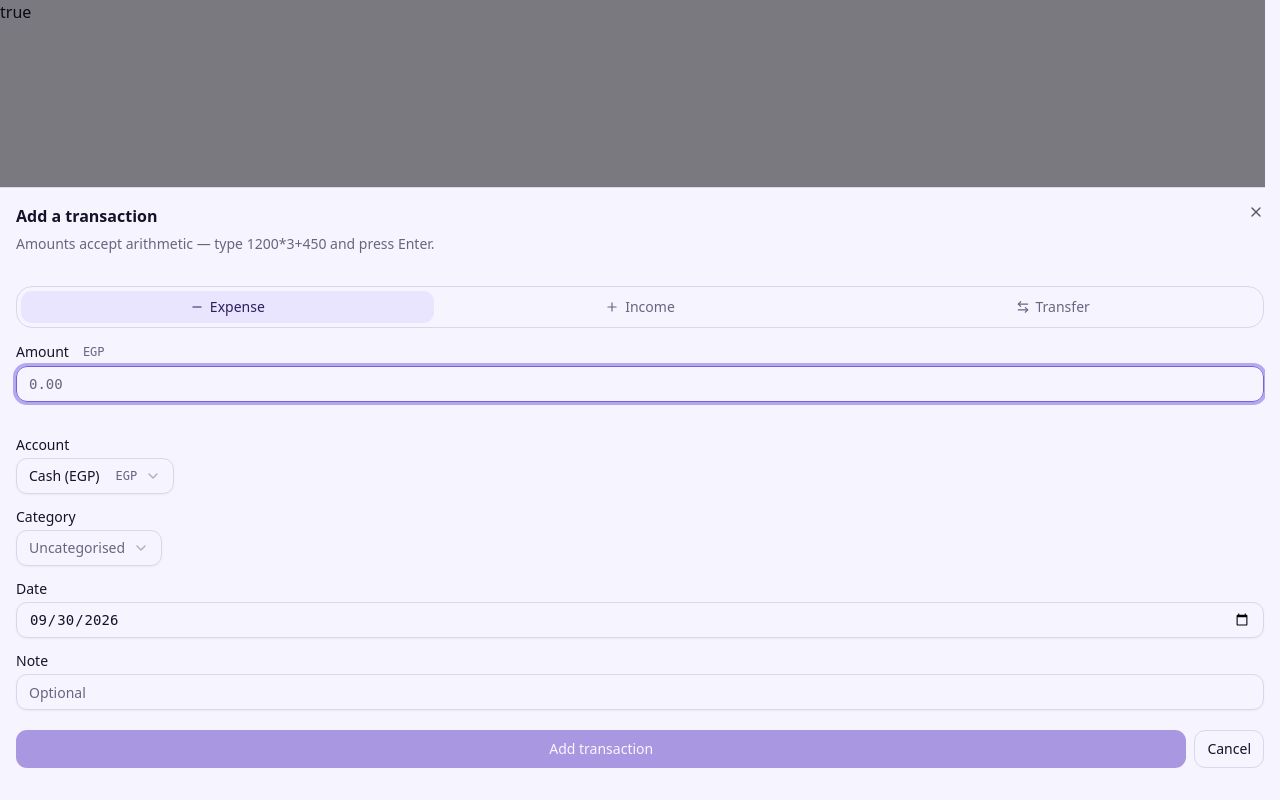
Test: a transfer › never offers the source account as the destination
Expected: the field labelled "Amount EGP" is shown, [16, 366, 1264, 402]
Expected: the dropdown labelled "Cash (EGP) EGP" is shown, [16, 458, 174, 494]
Click the button "Transfer". click: (1053, 307)
box: [846, 291, 1259, 323]
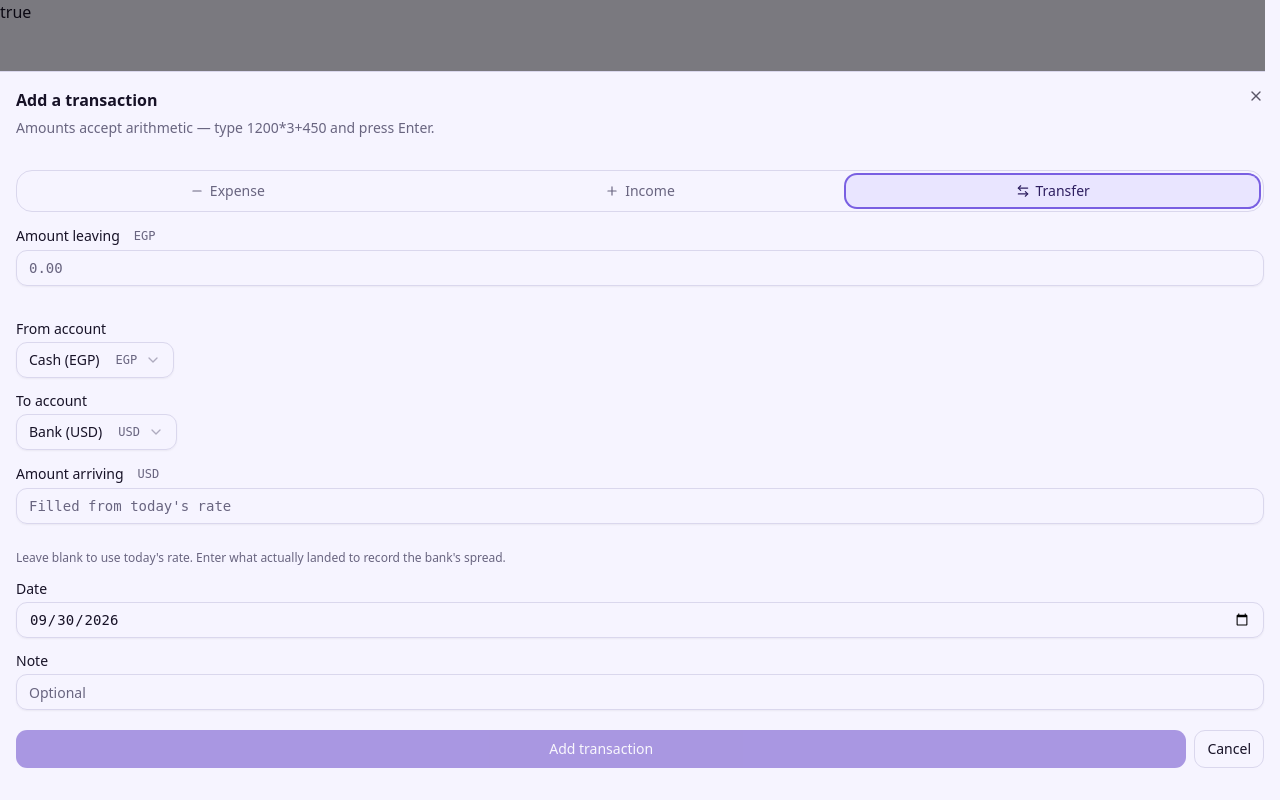
Click the dropdown named "To account". click: (96, 432)
box: [16, 414, 177, 450]
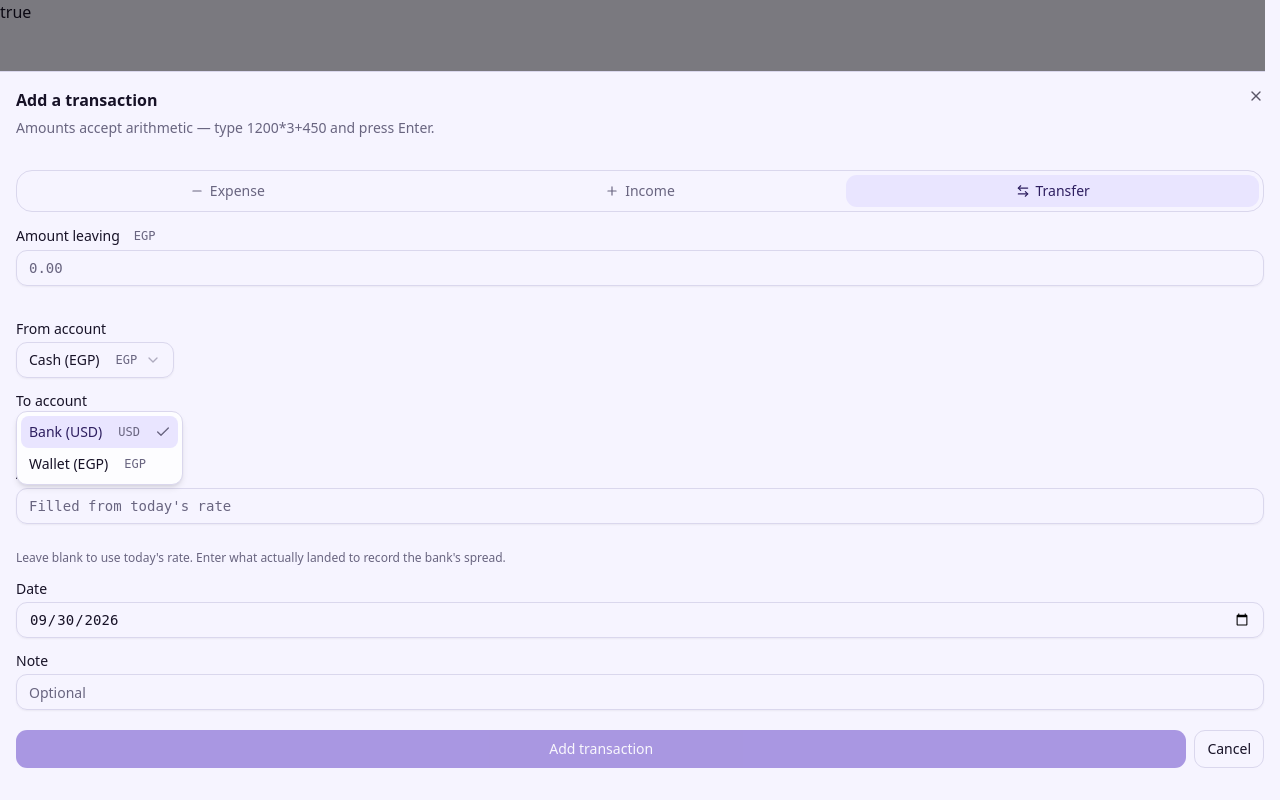
Now the text "Bank (USD)" is shown, box [29, 422, 102, 441]
Now the text "Wallet (EGP)" is shown, box [29, 454, 108, 473]
